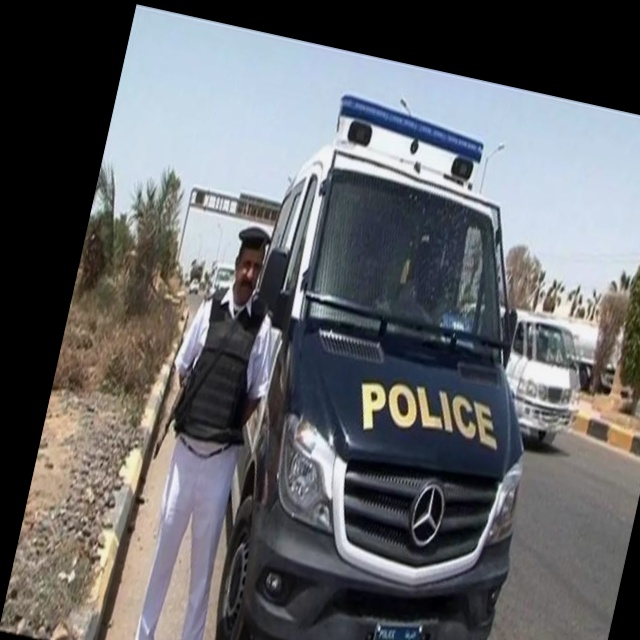person: (109, 214, 302, 640)
police-car: (174, 79, 603, 640)
